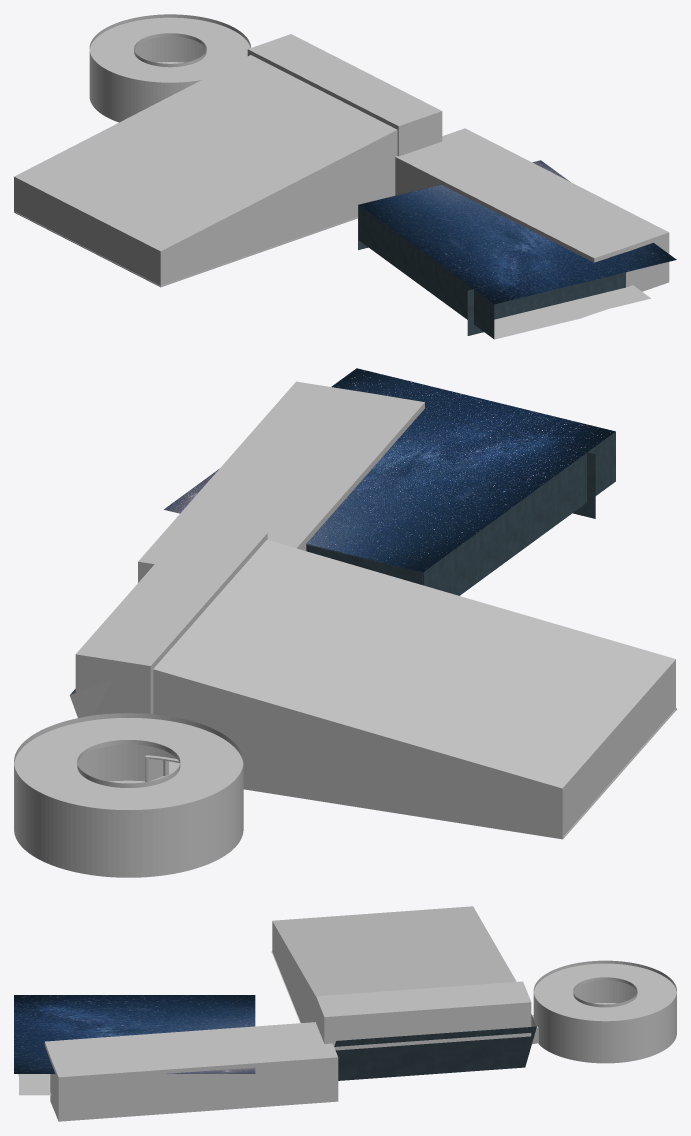
File: building.fbx
3 views of the same model, one above another, from view 1: azimuth 30°, elevation 25°; view 2: azimuth 150°, elevation 25°; view 3: azimuth 270°, elevation 25° (orthographic). The views are drawn at different scales.
Visible parts, largest first — view 1: Room01, Room02, LobbyRoom, Wall; view 2: Room01, Room02, LobbyRoom, Wall; view 3: Room02, Room01, LobbyRoom, Wall.
Boxes of the visible parts, left/top/right/bottom form: Room01: left=14, top=55, right=397, bottom=287; Room02: left=358, top=128, right=676, bottom=339; LobbyRoom: left=89, top=14, right=251, bottom=122; Wall: left=247, top=34, right=442, bottom=156; Room01: left=69, top=540, right=676, bottom=839; Room02: left=138, top=368, right=615, bottom=595; LobbyRoom: left=14, top=713, right=243, bottom=877; Wall: left=75, top=521, right=267, bottom=714; Room02: left=14, top=995, right=338, bottom=1121; Room01: left=271, top=906, right=536, bottom=1080; LobbyRoom: left=532, top=960, right=676, bottom=1063; Wall: left=316, top=981, right=531, bottom=1050.
Size of the model in its own units: 60239 by 10965 by 92526.
